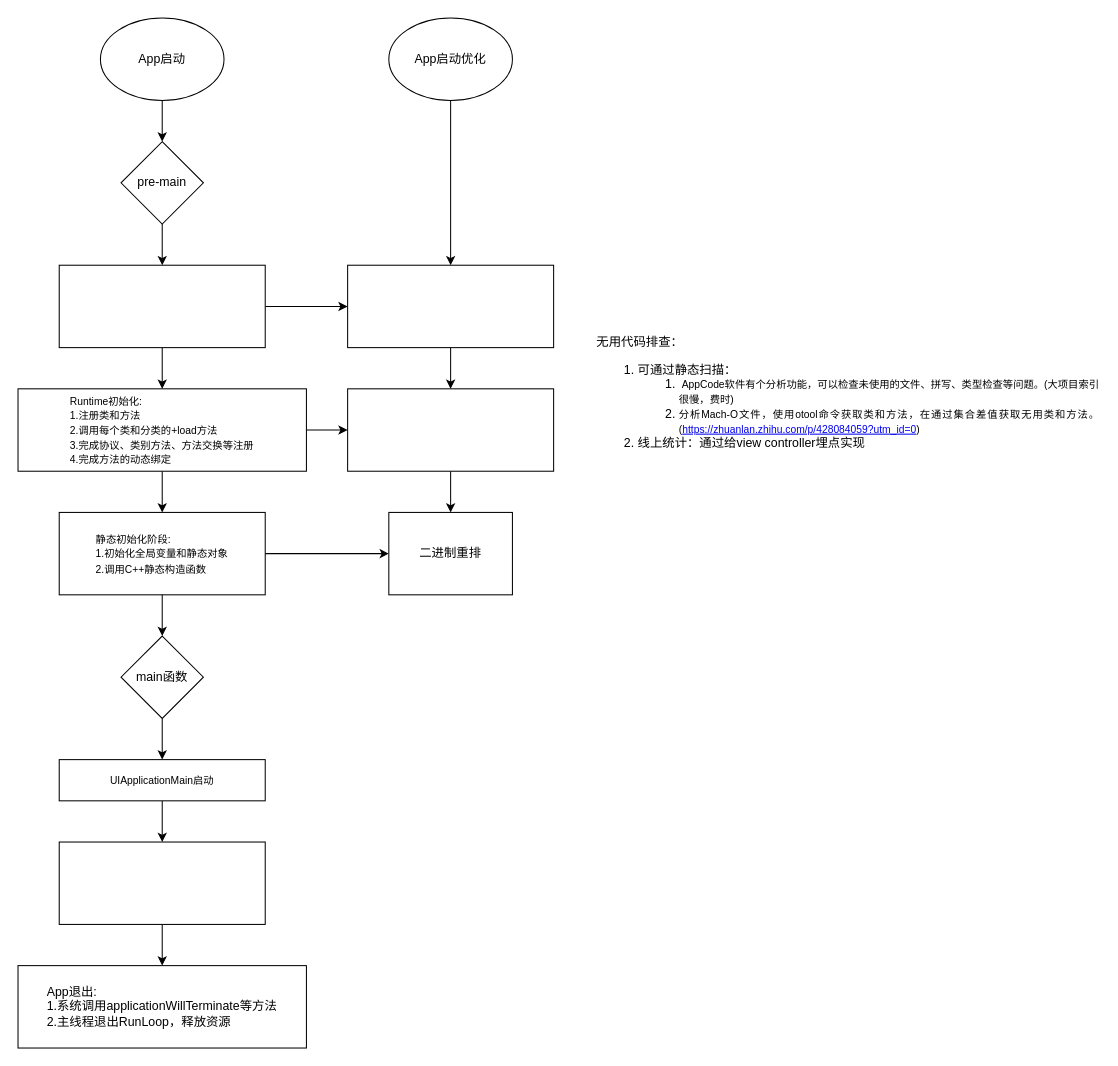
The diagram is 1118 pixels wide and 1066 high, and some of its shapes have lost their labels. The box of each missing label's shape, as (x1, y1, x2, y2) in pixels:
1.减少动态库 2.动态改静态 3.延迟加载动态库 4.减少Mach-O文件无用数据和符号: (347, 264, 554, 348)
1.减少项目无用代码 2.抽象重复代码 3.减少+load方法里复杂逻辑或放到+initialize里实现: (347, 388, 554, 471)
dyld动态链接器启动: 1.加载Mach-O文件 2.加载动态库 3.调用动态库的初始函数: (58, 264, 265, 348)
主线程与RunLoop: 1.进入事件循环，等待用户输入 2.通过事件队列处理触屏、手势等: (58, 841, 265, 924)
